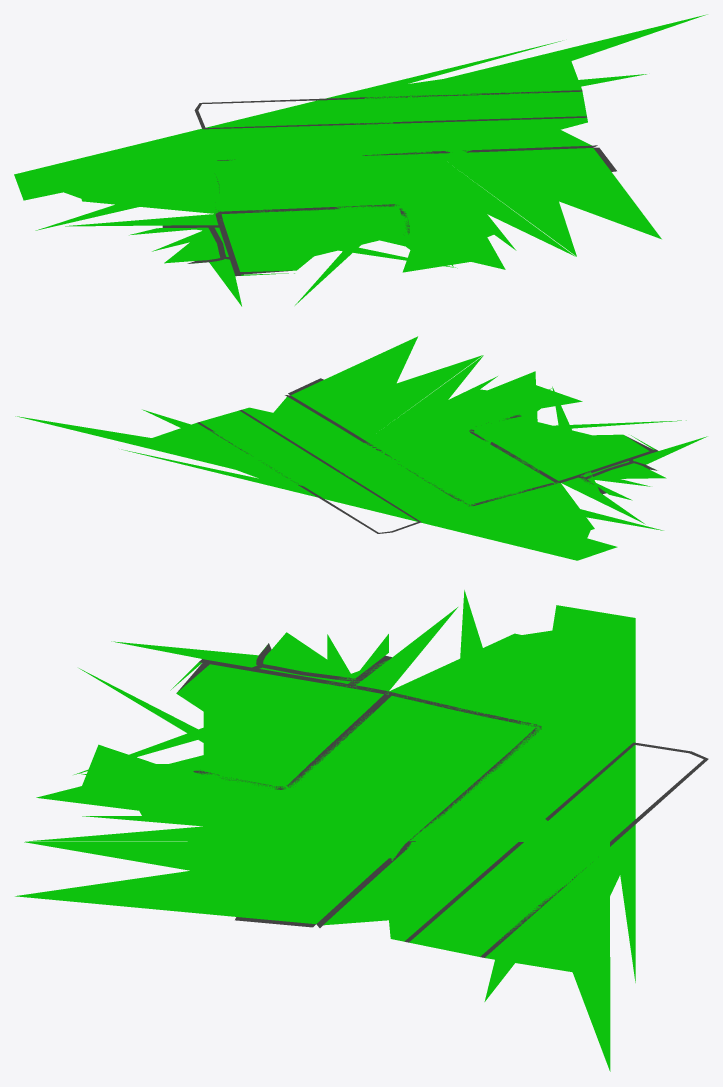
The picture shows the model from 3 angles, top to bottom: view 1: azimuth 30°, elevation 25°; view 2: azimuth 150°, elevation 25°; view 3: azimuth 270°, elevation 25°; orthographic projection. The views are drawn at different scales.
Size of the model in its own units: 556 by 0 by 338.
